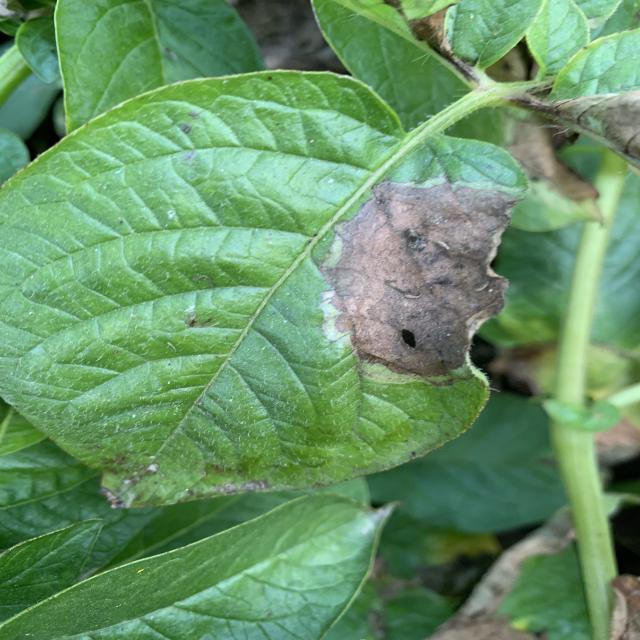lateblight: (322, 181, 518, 376), (510, 90, 640, 168)
